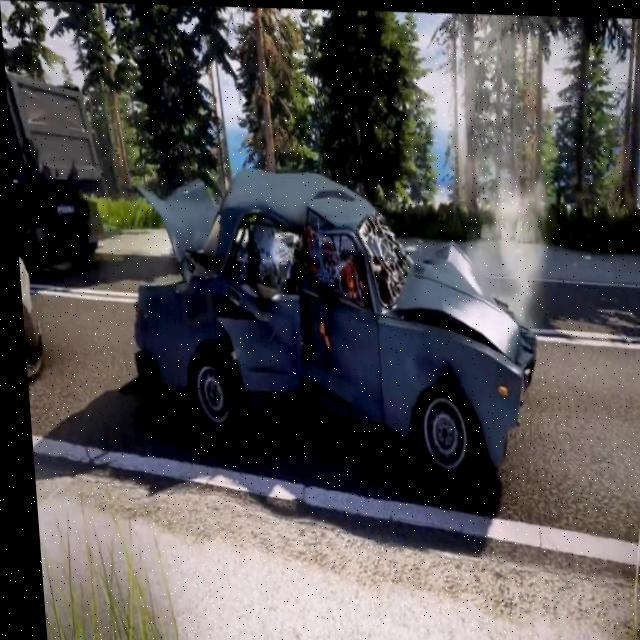single accident: (95, 130, 533, 478)
